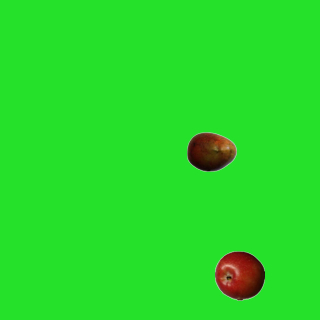Apple Braeburn: (214, 250, 264, 300)
Mango Red: (186, 126, 236, 176)
